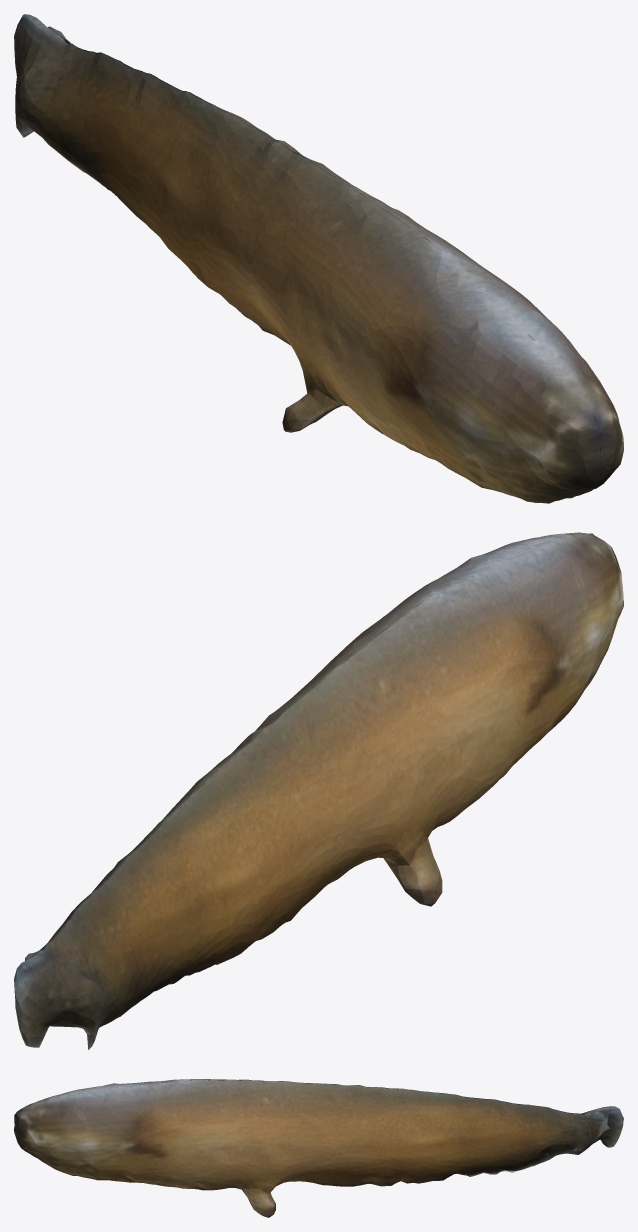
3 views of the same model, one above another, from view 1: azimuth 30°, elevation 25°; view 2: azimuth 150°, elevation 25°; view 3: azimuth 270°, elevation 25° (orthographic). The views are drawn at different scales.
Visible parts, largest first — view 1: Mesh_0.001; view 2: Mesh_0.001; view 3: Mesh_0.001.
Boxes of the visible parts, left/top/right/bottom form: Mesh_0.001: left=14, top=14, right=623, bottom=503; Mesh_0.001: left=14, top=532, right=623, bottom=1049; Mesh_0.001: left=14, top=1079, right=623, bottom=1217.
Bounding box in the file's own units: 0.2359 × 0.3103 × 1.45.
1 material, 1 textured.
